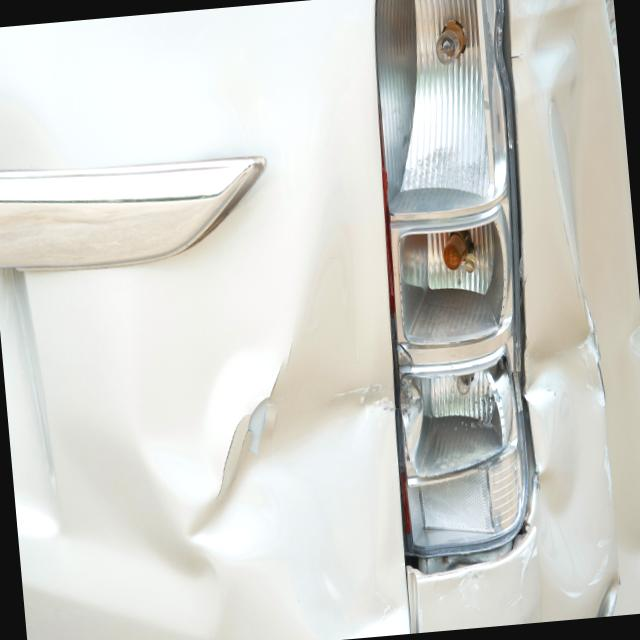Cabossage: (270, 247, 411, 640), (53, 415, 225, 640), (518, 344, 622, 604), (208, 420, 296, 563), (507, 6, 603, 126)
Rayure: (362, 520, 628, 637), (539, 99, 606, 390), (200, 352, 305, 500), (323, 366, 392, 438)
